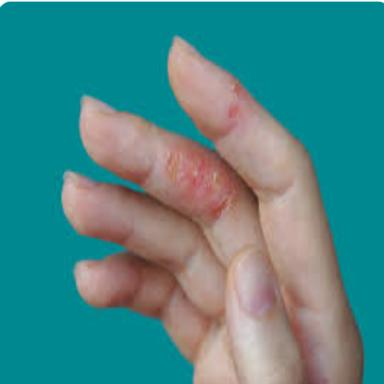eczema: (166, 145, 241, 222), (228, 79, 241, 118)
